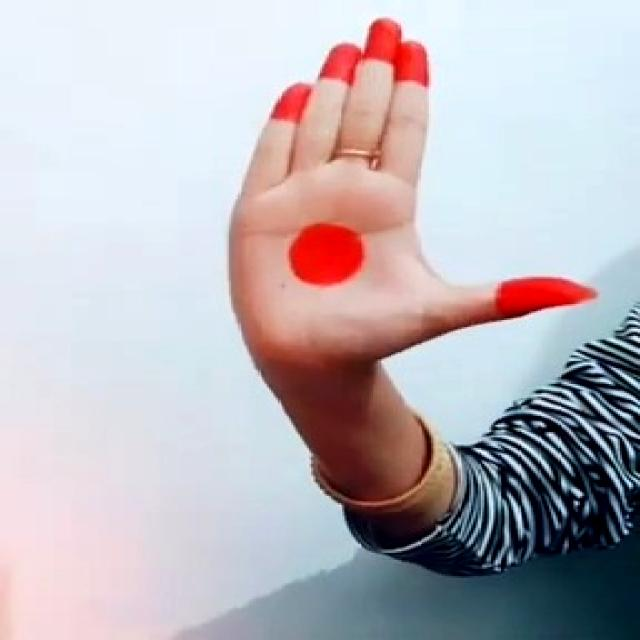Ardhachandra: (213, 10, 615, 367)
bangle: (292, 418, 465, 524)
